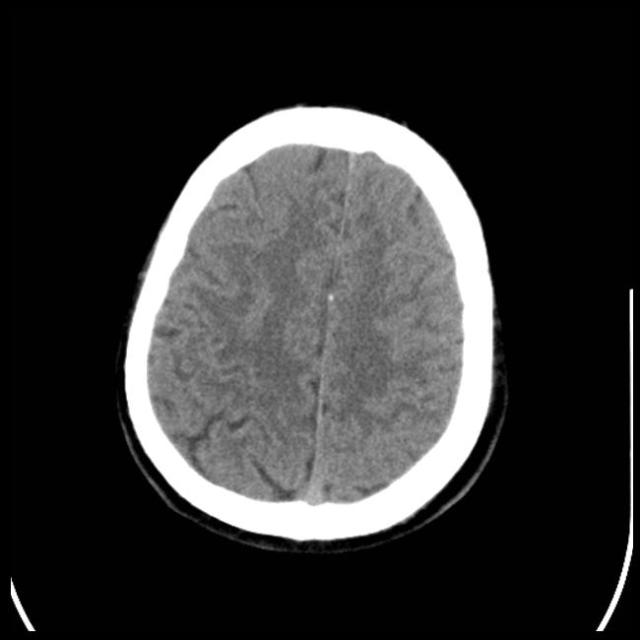lesion: (115, 101, 507, 554)
